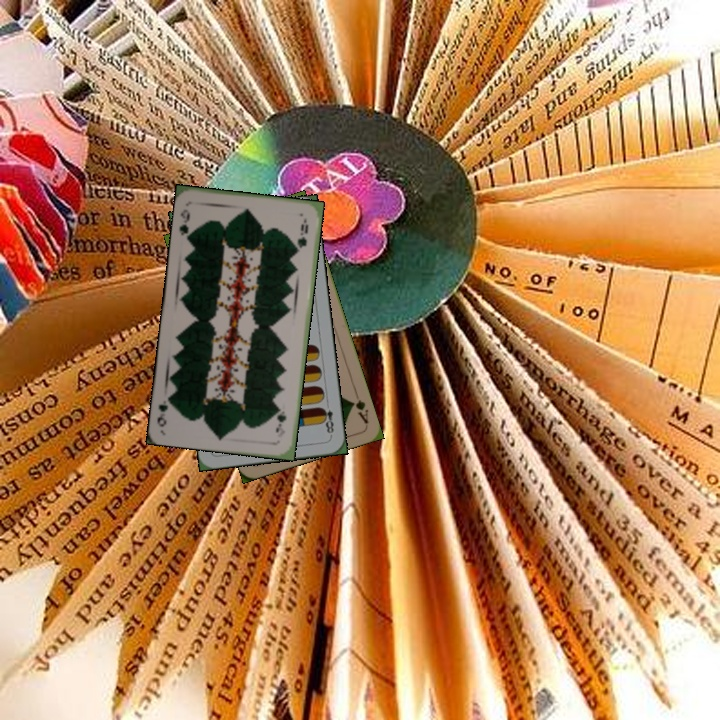E8: (317, 398, 336, 439)
G9: (175, 205, 194, 242), (273, 405, 289, 435)
GA: (347, 395, 371, 426)
